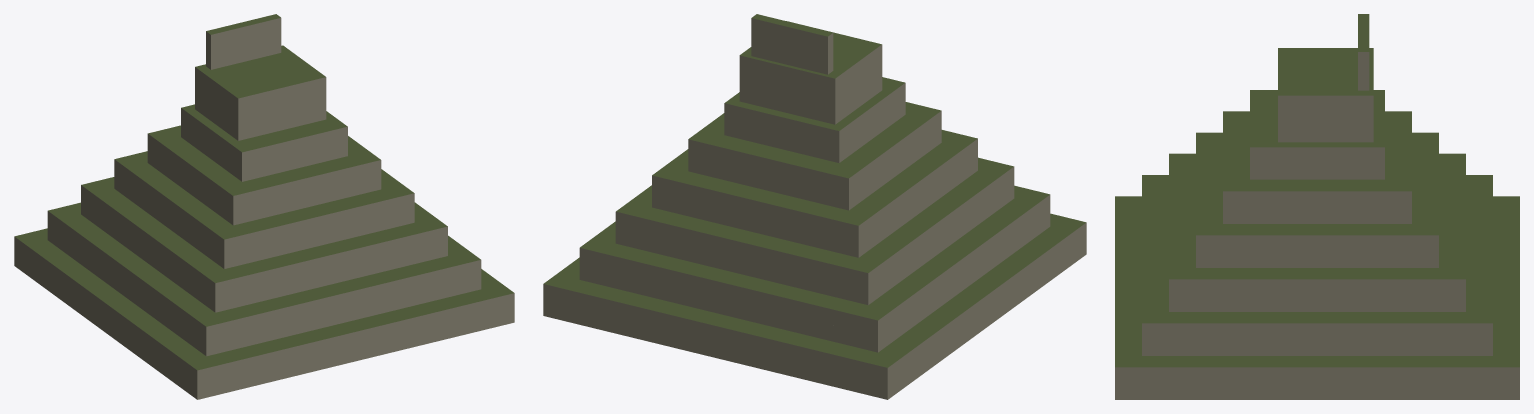
File: ruin-pyramid.tone-v1.lod2.glb
3 renders of one model, left to right at view 1: azimuth 30°, elevation 25°; view 2: azimuth 150°, elevation 25°; view 3: azimuth 270°, elevation 25°, orthographic. The views are drawn at different scales.
Parts seen in each view (by area): view 1: ruin-pyramid; view 2: ruin-pyramid; view 3: ruin-pyramid.
Part boxes in pixels (x1=…): ruin-pyramid: x1=14, y1=14, x2=514, y2=399; ruin-pyramid: x1=543, y1=14, x2=1086, y2=399; ruin-pyramid: x1=1115, y1=14, x2=1519, y2=399.
Size of the model in its own units: 36 by 27.6 by 36.
